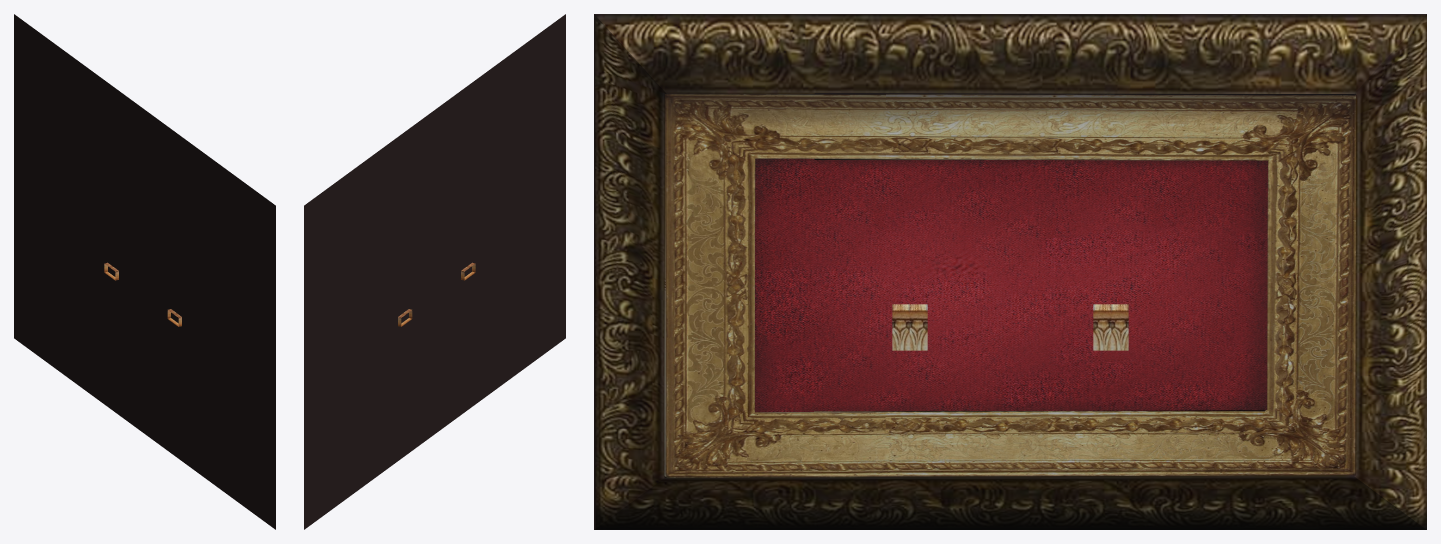
File: WeaponHolder.fbx
3 views of the same model, side by side, from view 1: azimuth 30°, elevation 25°; view 2: azimuth 150°, elevation 25°; view 3: azimuth 270°, elevation 25° (orthographic). The views are drawn at different scales.
Visible parts, largest first — view 1: Frame; view 2: Frame; view 3: Frame.
Part boxes in pixels (bbox=[...]): Frame: bbox=[14, 14, 275, 529]; Frame: bbox=[304, 14, 565, 529]; Frame: bbox=[594, 14, 1426, 529].
Bounding box in the file's own units: 48.9 × 304 × 445.
1 material, 1 textured.
